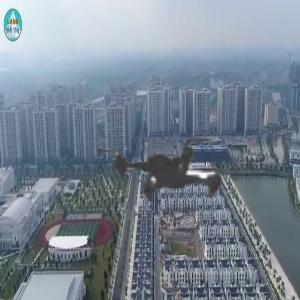drone: (63, 74, 280, 291)
